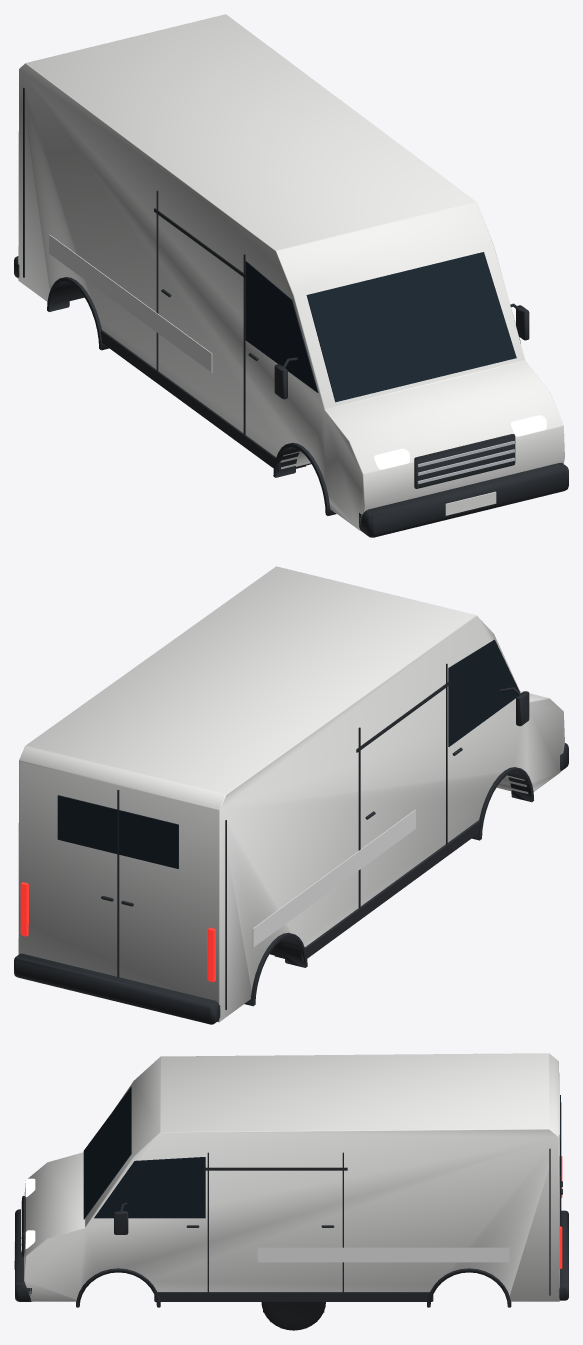
The model's file is vehicle_van.glb.
The picture shows the model from 3 angles, top to bottom: view 1: azimuth 30°, elevation 25°; view 2: azimuth 150°, elevation 25°; view 3: azimuth 270°, elevation 25°; orthographic projection. The views are drawn at different scales.
Parts seen in each view (by area): view 1: van_body, livery; view 2: van_body, livery; view 3: van_body, livery, wheel.
Boxes of the visible parts, x1,y1,x2,y2 form: van_body: (14,14,568,537); livery: (49,234,212,372); van_body: (14,566,568,1024); livery: (252,809,415,947); van_body: (14,1053,568,1307); livery: (257,1247,509,1262); wheel: (261,1302,325,1330).
Bounding box in the file's own units: 2.46 × 2.91 × 6.17.
1 material, 1 textured.
